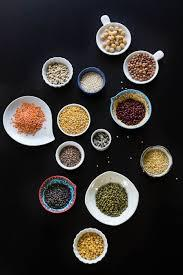Organic: (2, 3, 183, 274)
